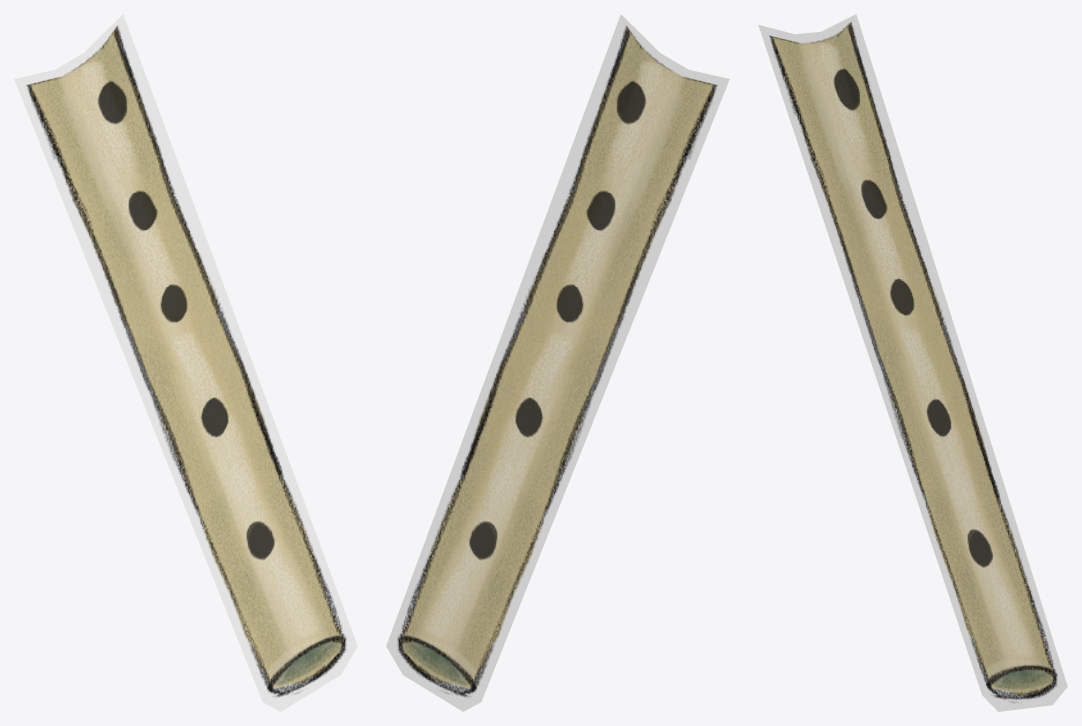
The model's file is pistala_1.glb.
3 renders of one model, left to right at view 1: azimuth 30°, elevation 25°; view 2: azimuth 150°, elevation 25°; view 3: azimuth 330°, elevation 25°, orthographic. The views are drawn at different scales.
Parts seen in each view (by area): view 1: Plane.011; view 2: Plane.011; view 3: Plane.011.
Boxes of the visible parts, x1,y1,x2,y2 form: Plane.011: (14, 14, 357, 711); Plane.011: (386, 14, 729, 711); Plane.011: (758, 14, 1067, 711).
Bounding box in the file's own units: 6.49 × 13.29 × 0.
Materials: 1 (1 with a texture image).
